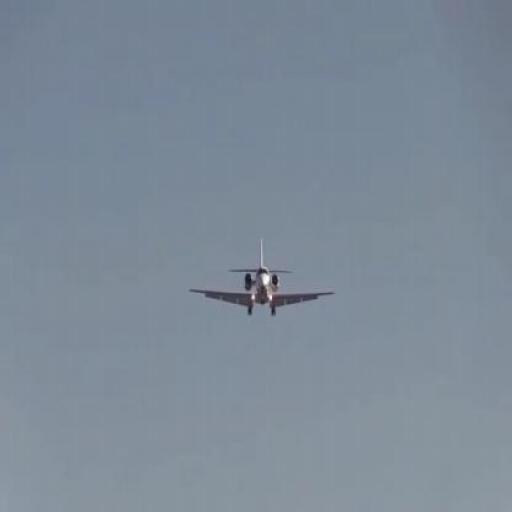aircraft: (190, 238, 334, 318)
